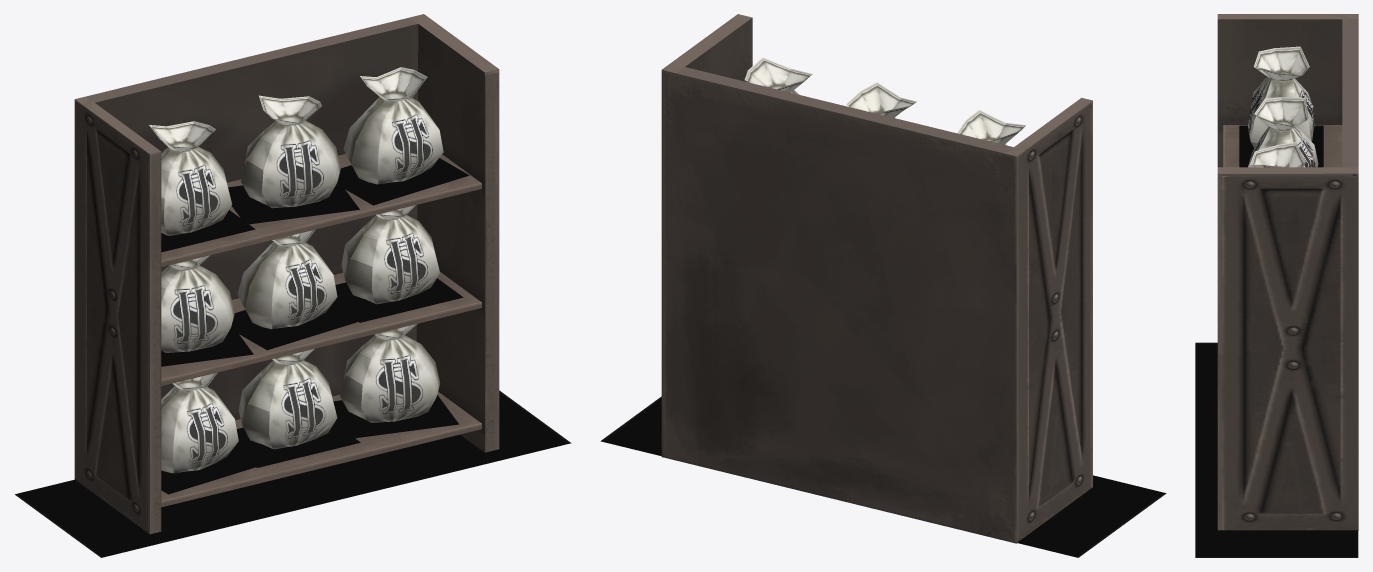
Rendered from shelf_3.fbx.
3 views of the same model, side by side, from view 1: azimuth 30°, elevation 25°; view 2: azimuth 150°, elevation 25°; view 3: azimuth 270°, elevation 25° (orthographic). The views are drawn at different scales.
Visible parts, largest first — view 1: polySurface2, moneybag_bag, shadow, moneybag_shadow, moneybag_top, polySurface5, polySurface4, polySurface3; view 2: polySurface2, shadow, moneybag_top; view 3: polySurface2, shadow, moneybag_top, moneybag_bag, polySurface3, moneybag_shadow.
Part boxes in pixels (x1,y1,x2,y2): polySurface2: [74, 14, 499, 534]; moneybag_bag: [161, 97, 443, 473]; shadow: [15, 390, 571, 557]; moneybag_shadow: [161, 158, 469, 494]; moneybag_top: [149, 67, 427, 391]; polySurface5: [161, 391, 481, 507]; polySurface4: [161, 272, 481, 385]; polySurface3: [161, 154, 481, 266]; polySurface2: [661, 14, 1092, 543]; shadow: [600, 396, 1166, 557]; moneybag_top: [744, 57, 1025, 144]; polySurface2: [1217, 14, 1358, 530]; shadow: [1195, 342, 1358, 557]; moneybag_top: [1250, 46, 1309, 167]; moneybag_bag: [1248, 77, 1318, 167]; polySurface3: [1223, 125, 1342, 167]; moneybag_shadow: [1239, 125, 1323, 167].
Size of what is drawn, in the model's own units: 18.11 by 14.01 by 5.81.
5 materials, 5 textured.
